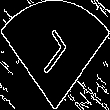L_SW: (34, 26, 76, 84)
